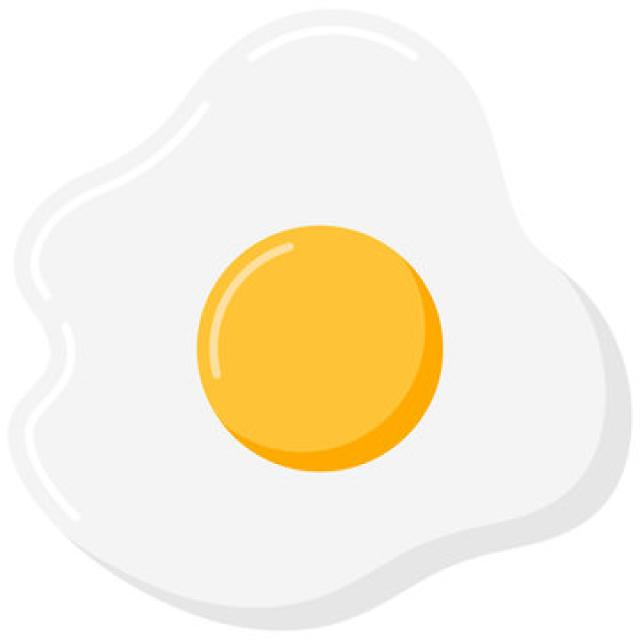Egg: (11, 12, 630, 627)
